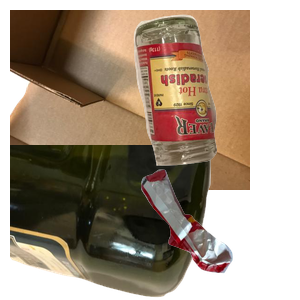cardboard: (10, 10, 250, 190)
glass: (131, 12, 300, 170)
plastic: (10, 145, 213, 300)
trash: (139, 167, 300, 300)
